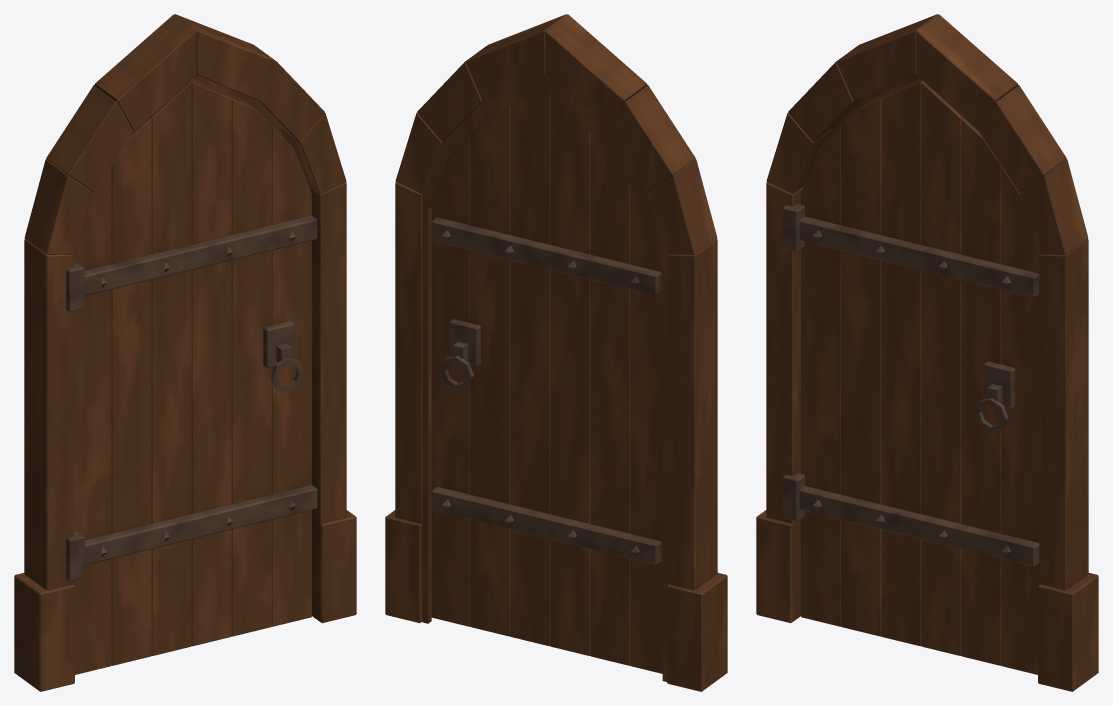
Rendered from door_arch_heavy_01_godot.glb.
The picture shows the model from 3 angles, left to right: view 1: azimuth 30°, elevation 25°; view 2: azimuth 150°, elevation 25°; view 3: azimuth 330°, elevation 25°; orthographic projection.
Parts seen in each view (by area): view 1: door_arch_heavy_01; view 2: door_arch_heavy_01; view 3: door_arch_heavy_01.
Part boxes in pixels (x1,y1,x2,y2): door_arch_heavy_01: (14,14,356,691); door_arch_heavy_01: (385,14,727,691); door_arch_heavy_01: (756,14,1098,691).
Size of what is drawn, in the model's own units: 1.11 by 2.08 by 0.231.
Materials: 2 (2 with a texture image).
